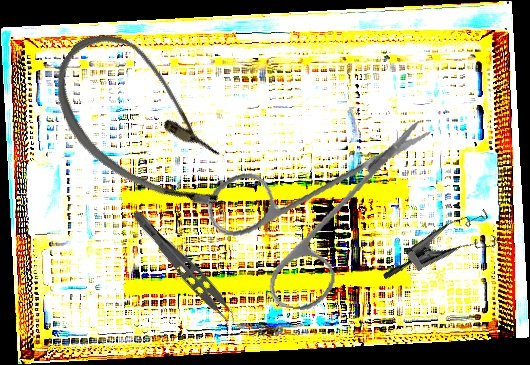Cannula: (27, 16, 264, 231)
Iris Scissors: (194, 94, 434, 325)
Speculum: (381, 191, 508, 317)
Tissue Forceps: (122, 207, 244, 333)
